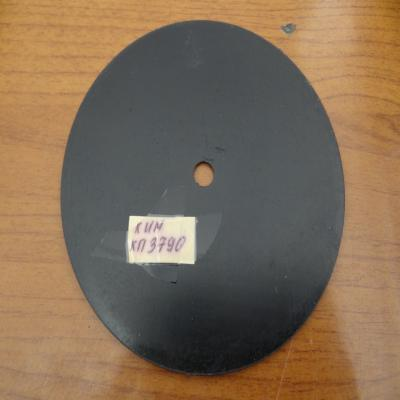other: (59, 20, 346, 379)
